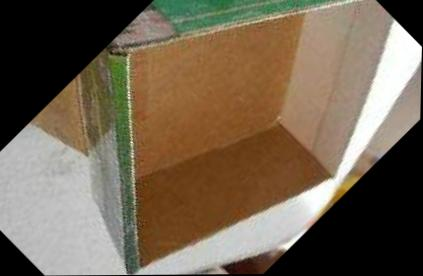cardboard: (0, 0, 420, 274)
